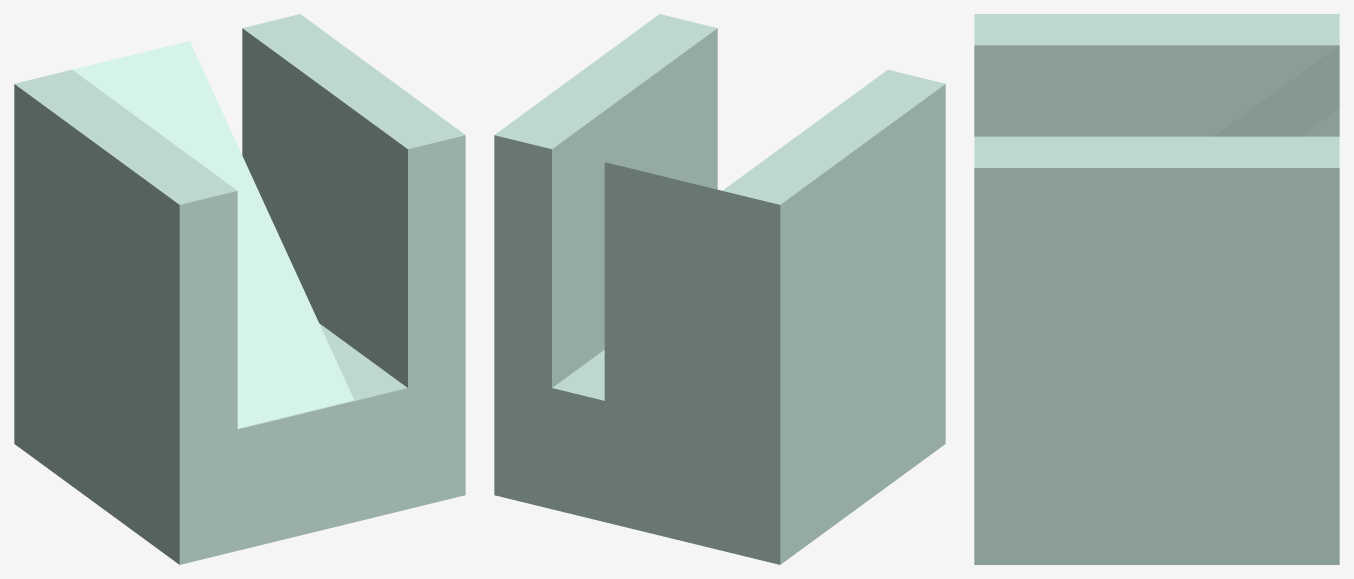
3 renders of one model, left to right at view 1: azimuth 30°, elevation 25°; view 2: azimuth 150°, elevation 25°; view 3: azimuth 270°, elevation 25°, orthographic. The views are drawn at different scales.
Visible parts, largest first — view 1: Renderer Node; view 2: Renderer Node; view 3: Renderer Node.
Boxes of the visible parts, left/top/right/bottom form: Renderer Node: left=14, top=14, right=465, bottom=564; Renderer Node: left=494, top=14, right=945, bottom=564; Renderer Node: left=974, top=14, right=1339, bottom=564.
Size of the model in its own units: 0.6237 by 0.75 by 0.625.
